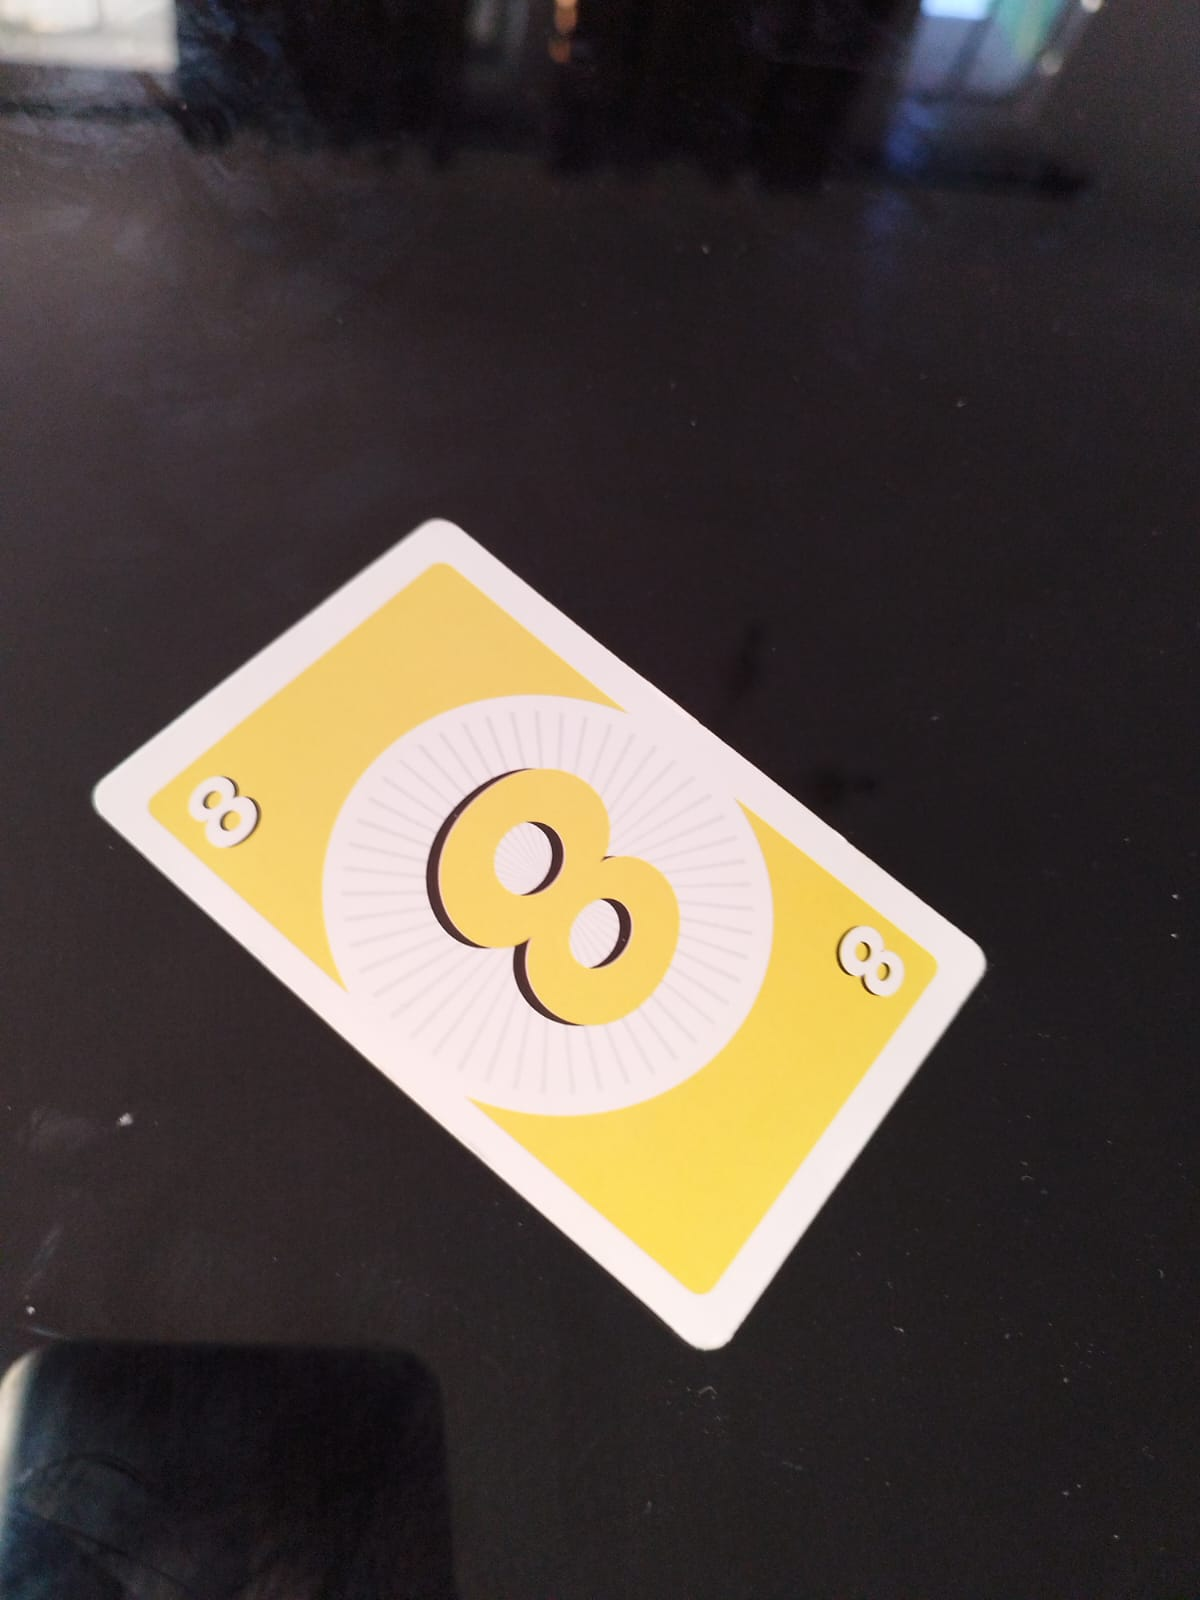6_green: (386, 748, 710, 1036), (802, 906, 919, 1012), (174, 756, 276, 867)
